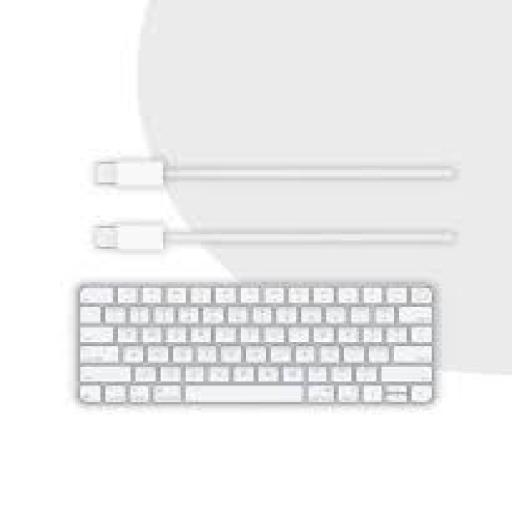KEYBOARD-2: (78, 282, 434, 402)
